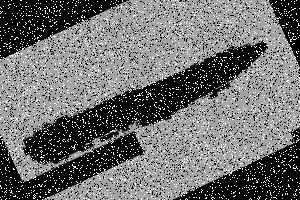knife: (26, 30, 276, 172)
